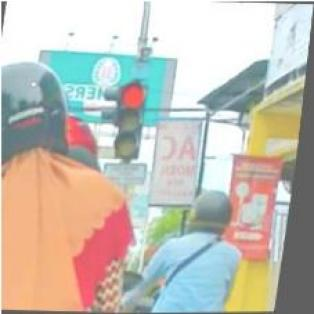Semaforo Rojo: (113, 84, 151, 161)
